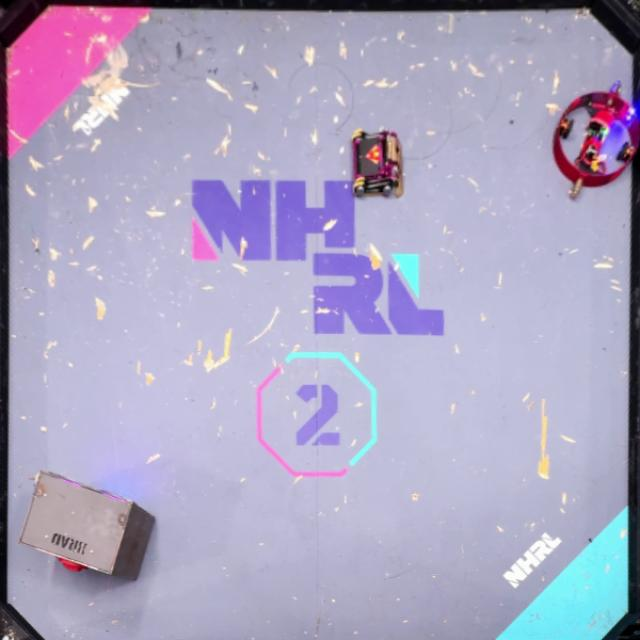housebot: (18, 472, 156, 582)
robot: (551, 80, 640, 198), (351, 130, 404, 198)
